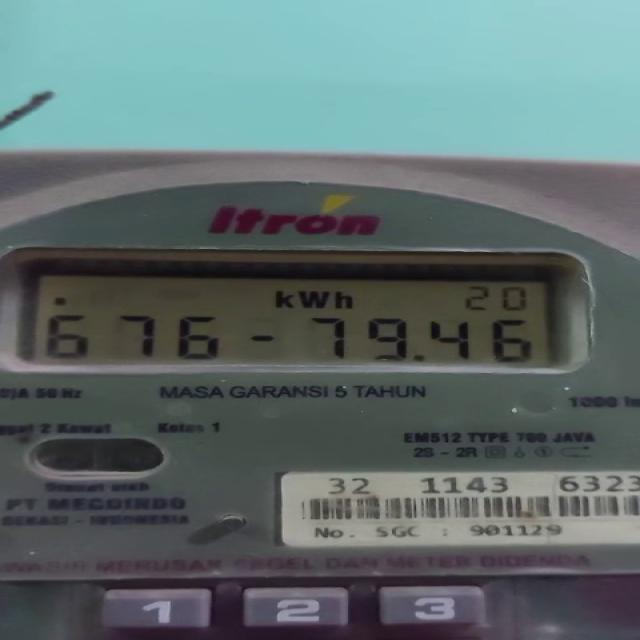LCD: (0, 243, 610, 379)
